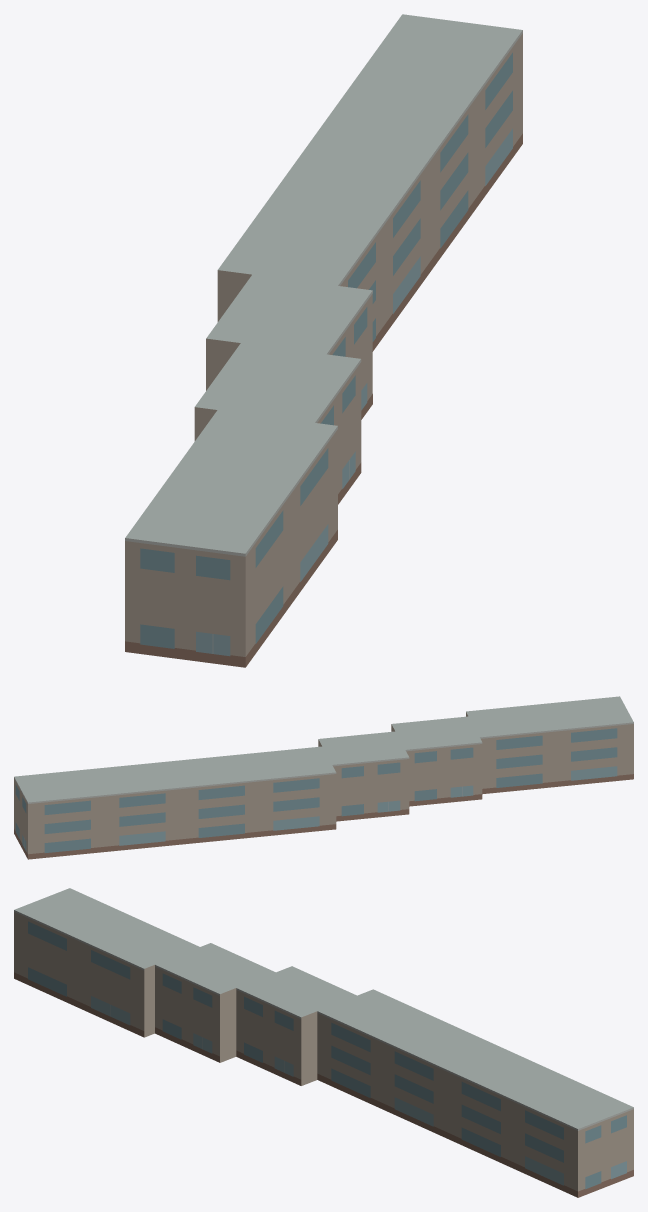
File: survey-upis-33034468.glb
The picture shows the model from 3 angles, top to bottom: view 1: azimuth 30°, elevation 25°; view 2: azimuth 150°, elevation 25°; view 3: azimuth 270°, elevation 25°; orthographic projection. The views are drawn at different scales.
Parts seen in each view (by area): view 1: survey-upis-33034468.tmp; view 2: survey-upis-33034468.tmp; view 3: survey-upis-33034468.tmp.
Boxes of the visible parts, bbox=[...] form: survey-upis-33034468.tmp: bbox=[125, 14, 522, 667]; survey-upis-33034468.tmp: bbox=[14, 696, 633, 859]; survey-upis-33034468.tmp: bbox=[14, 888, 633, 1197].
Bounding box in the file's own units: 68.79 × 9.15 × 74.75.
